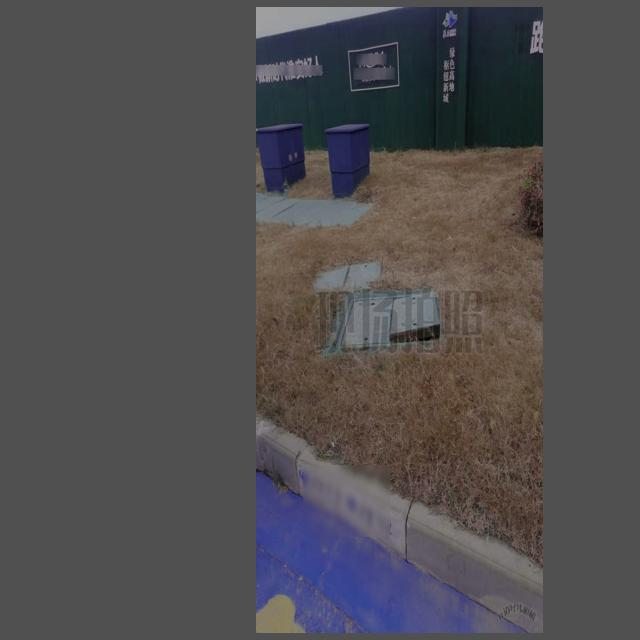uncovered: (337, 286, 443, 350)
